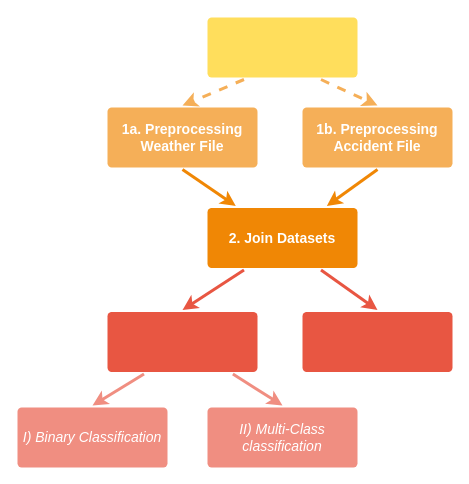
The diagram is 469 pixels wide and 484 high, and some of its shapes have lost their labels. The shapes that lost their labels are listed below. From the top down, each one's centre as x and y in pixels, then its label:
At point (282, 47): "0. EDA".
At point (182, 342): "3. Pandas Pipeline".
At point (377, 342): "4. Spark Pipeline".
